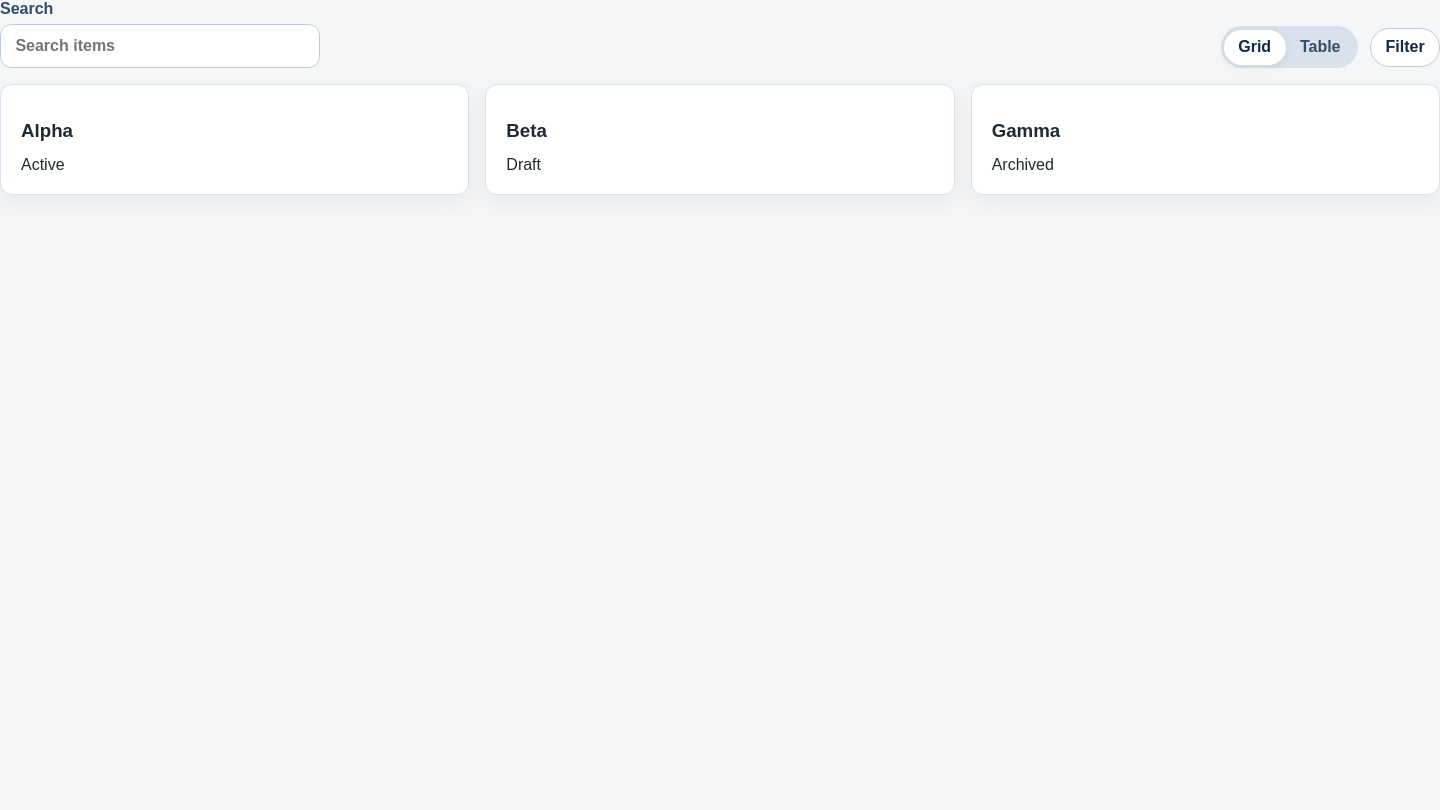
Test case: DataViewComponent Phase 1 filtering › adds a filter, increments the count, and keeps it after reopen
Click the button with class "data-view__filter-button".
click(1405, 47)  # box [1370,28,1439,67]
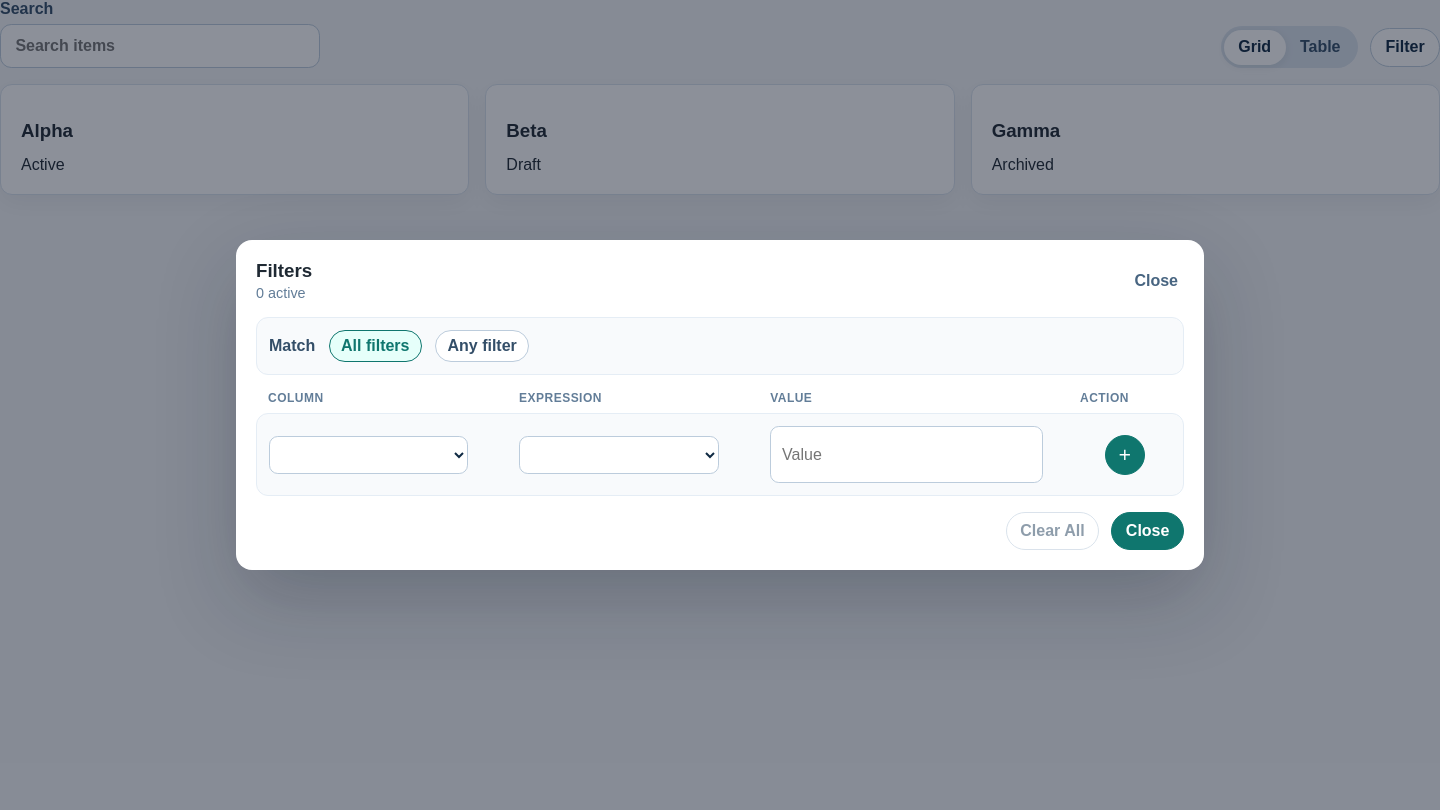
Select "Name" in the 1st dropdown at [369, 455], box [269,436,468,474]
Select "Contains" in the 2nd dropdown at [619, 455], box [520,436,719,474]
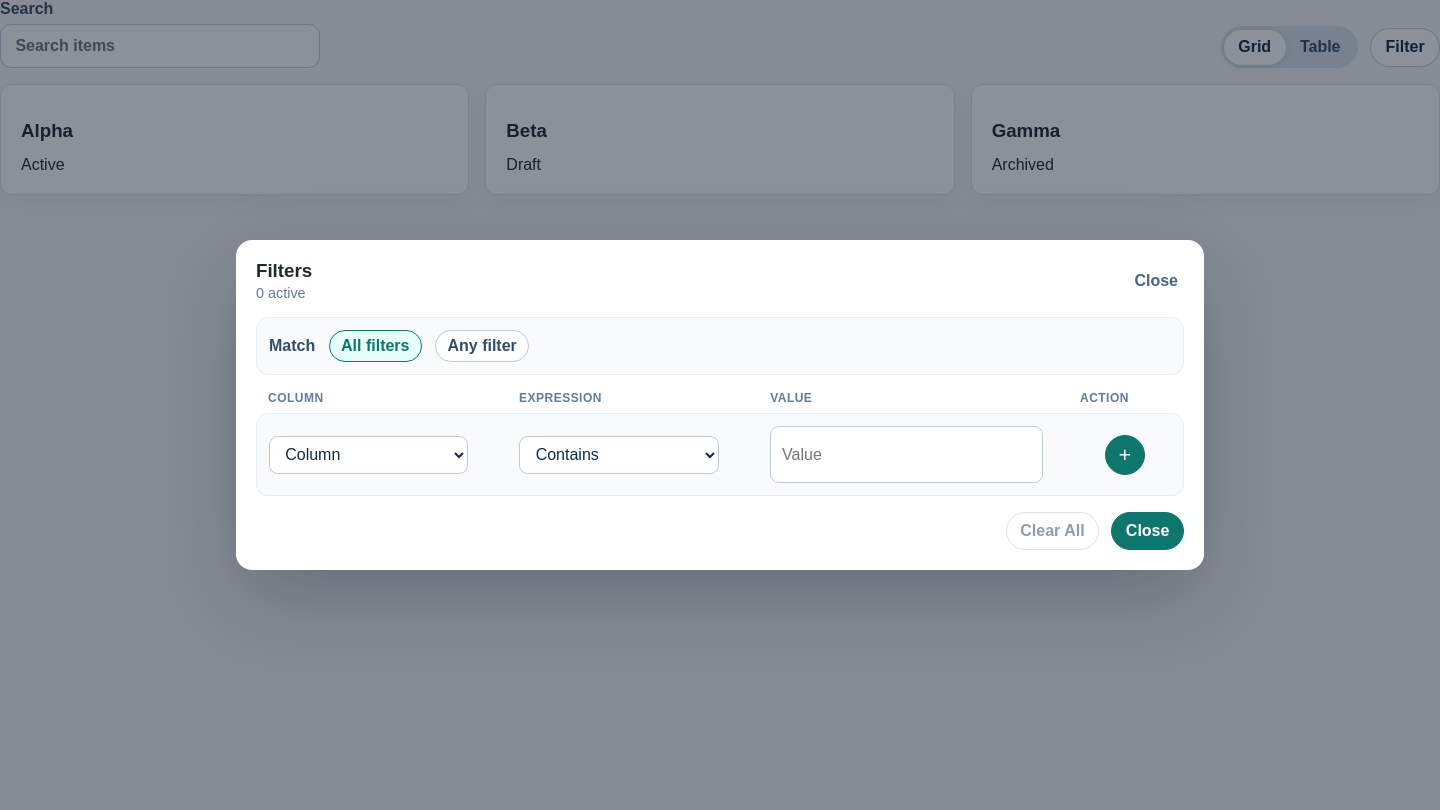
Type "Alpha" into the field with placeholder "Value".
click(907, 455); type("Alpha")  # box [770,426,1043,483]
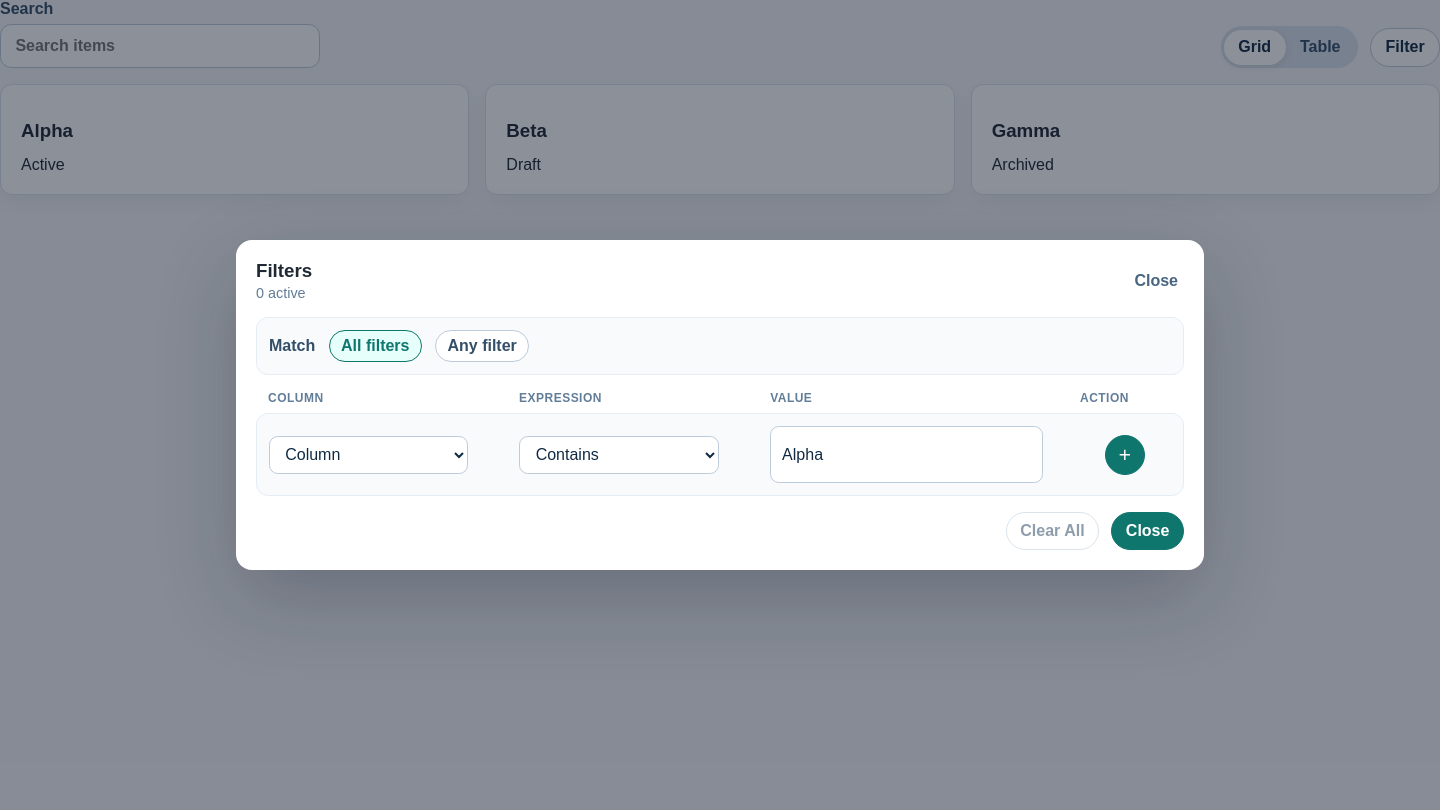
Click the button with class "data-view__filter-add".
click(1125, 455)  # box [1105,435,1145,475]
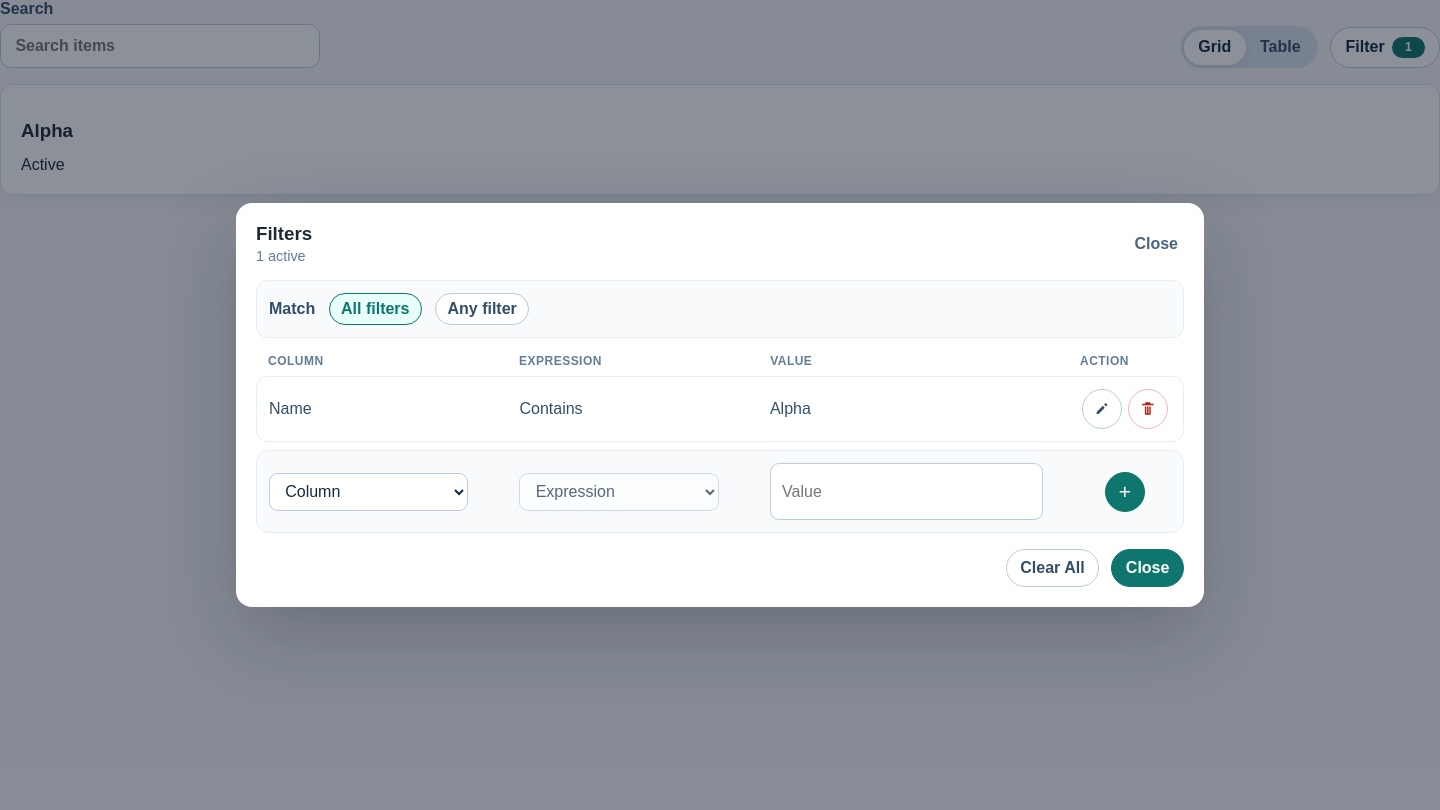
Click the button with class "data-view__modal-close".
click(1156, 244)  # box [1128,234,1184,254]
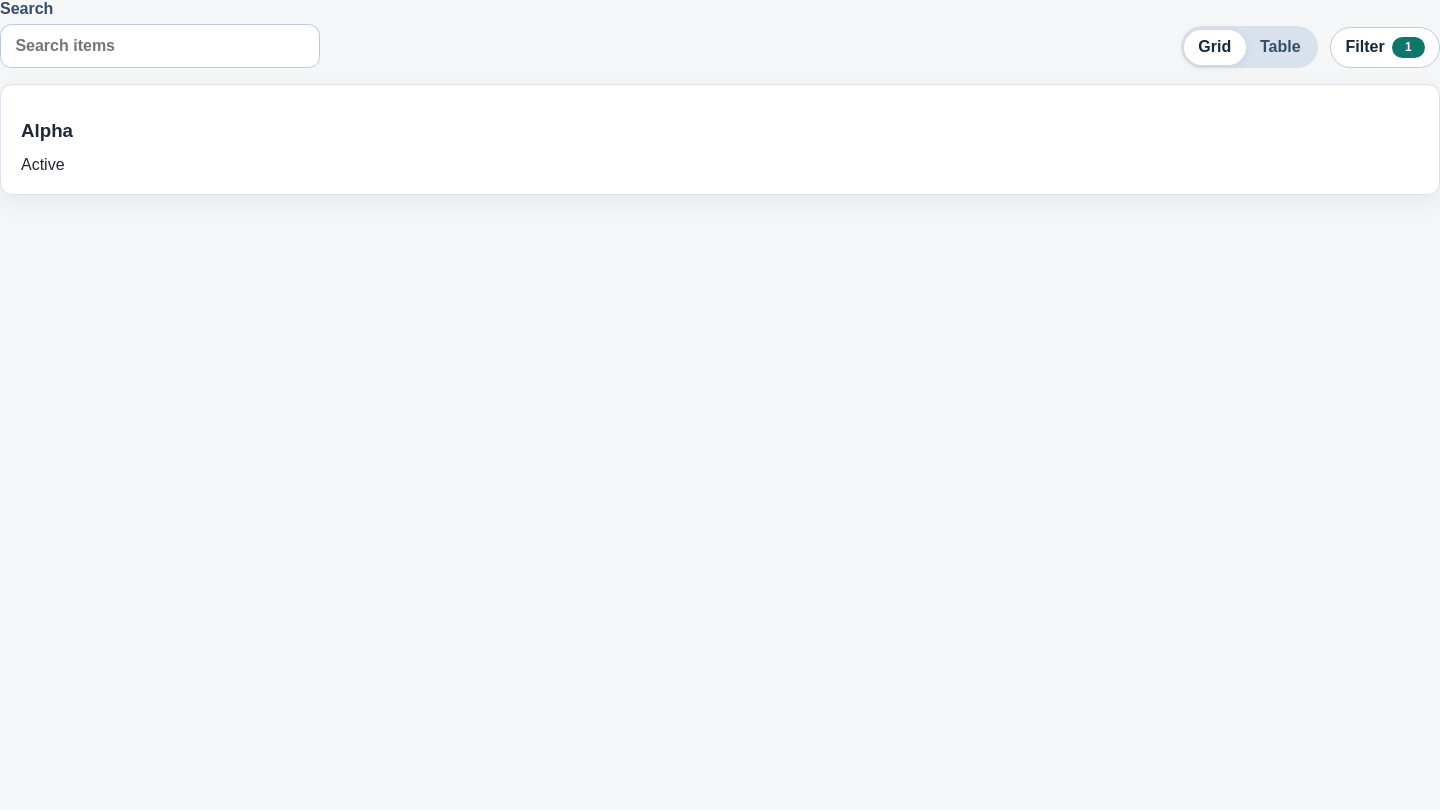
Click the button with class "data-view__filter-button".
click(1385, 47)  # box [1330,27,1439,68]
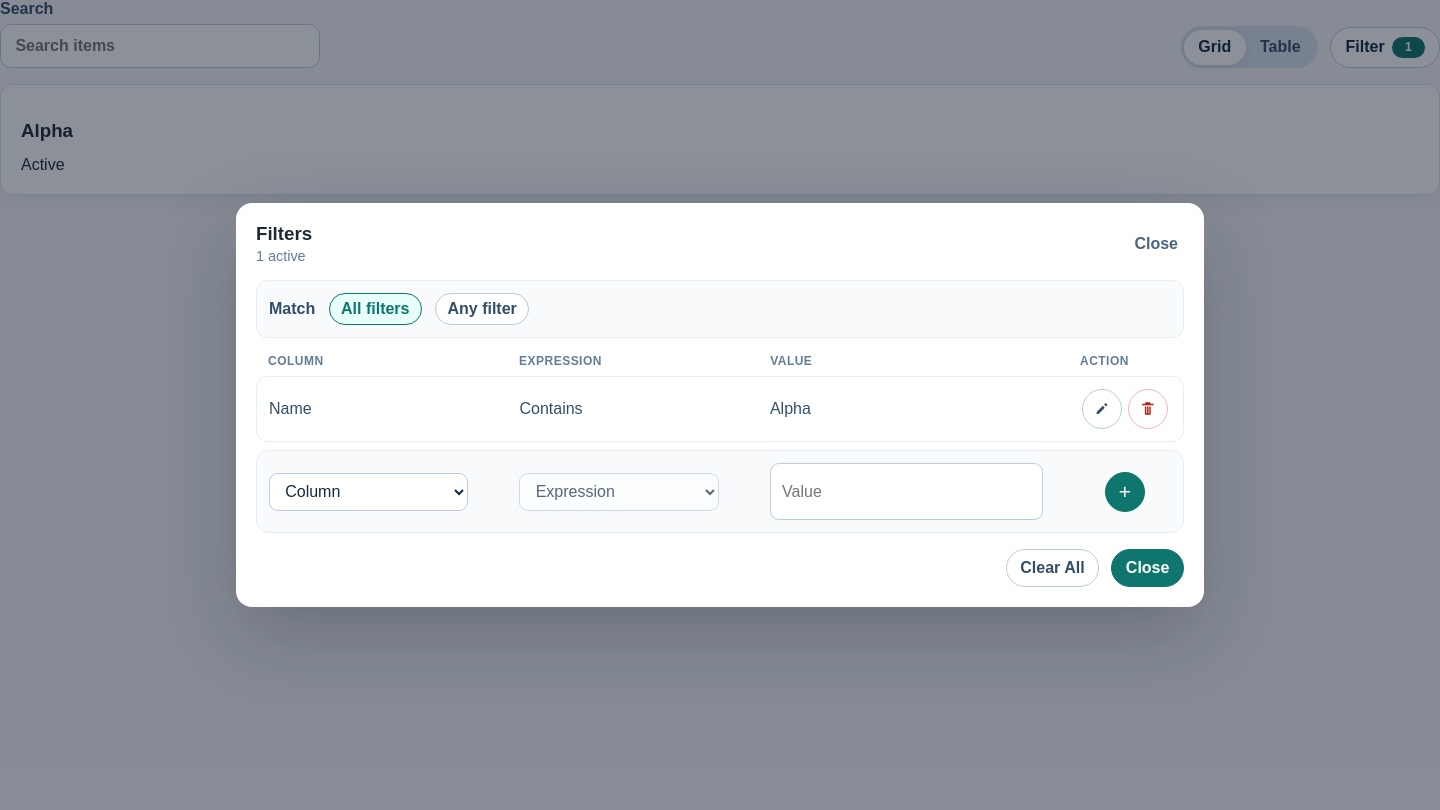
Expected: the text "Alpha" is shown, [21,120,73,141]
Expected: the text "Name" is shown, [269,400,312,417]
Expected: the text "Contains" is shown, [520,400,583,417]
